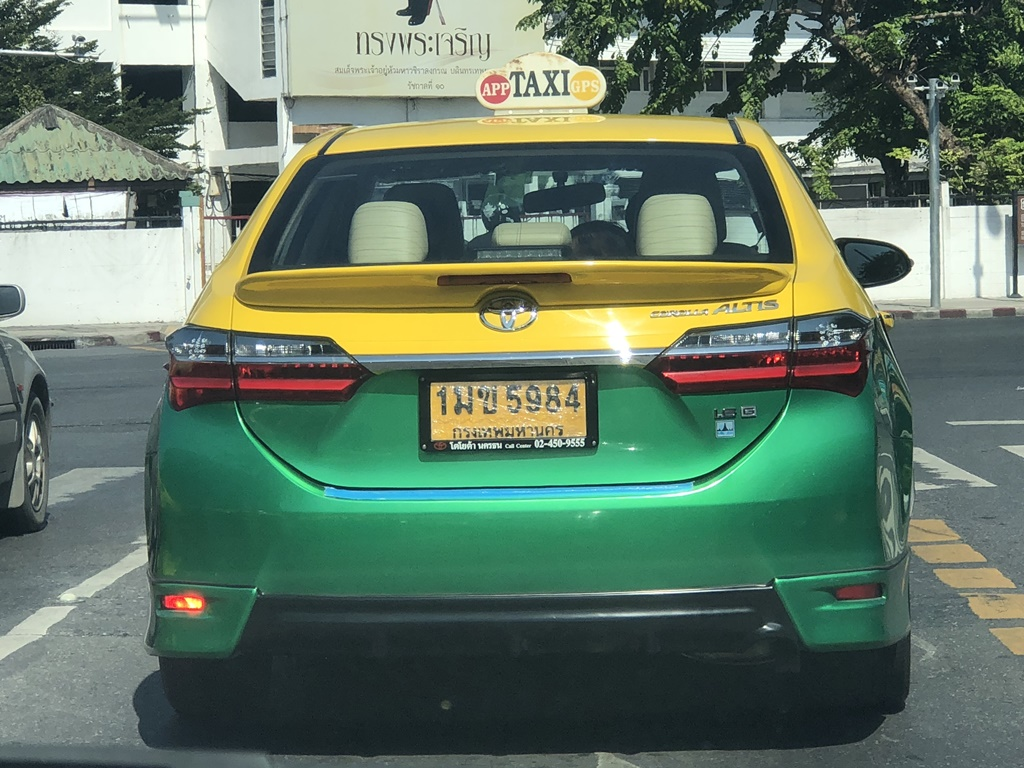plate: (404, 367, 604, 459)
